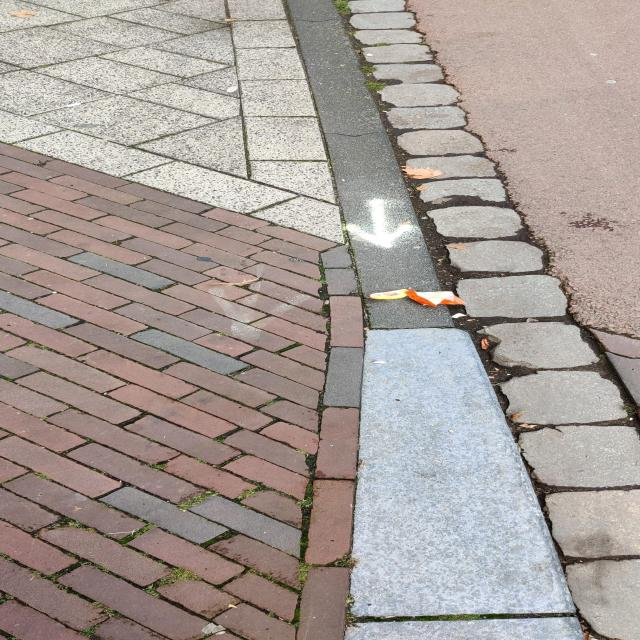litter: (392, 289, 465, 310)
